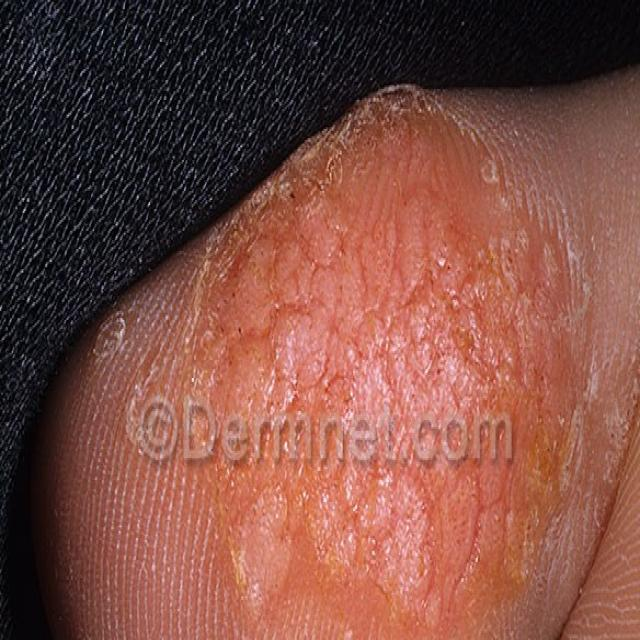Warts: (210, 265, 549, 631), (311, 126, 594, 310)
